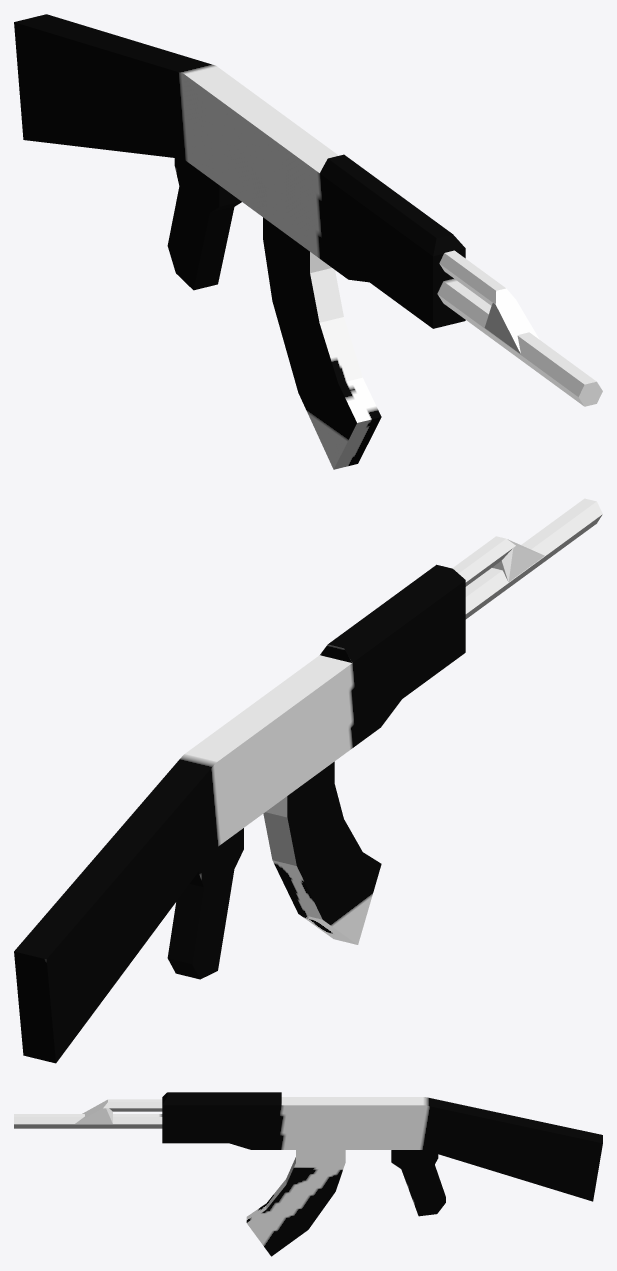
The model's file is akm.obj.
3 views of the same model, one above another, from view 1: azimuth 30°, elevation 25°; view 2: azimuth 150°, elevation 25°; view 3: azimuth 270°, elevation 25° (orthographic). The views are drawn at different scales.
Visible parts, largest first — view 1: AK-47, Magazine; view 2: AK-47, Magazine; view 3: AK-47, Magazine.
Boxes of the visible parts, x1,y1,x2,y2 form: AK-47: [14, 14, 602, 406]; Magazine: [263, 217, 381, 469]; AK-47: [14, 498, 602, 1063]; Magazine: [263, 761, 381, 944]; AK-47: [14, 1092, 602, 1216]; Magazine: [246, 1150, 345, 1256].
Size of the model in its own units: 0.08 by 0.71 by 2.38.
